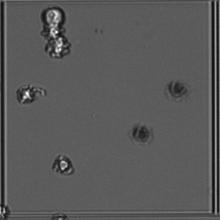Dead Cell: (164, 76, 192, 104), (129, 122, 155, 146)
Living Cell: (51, 151, 80, 180), (45, 33, 73, 61), (40, 4, 67, 31), (12, 83, 43, 106)
